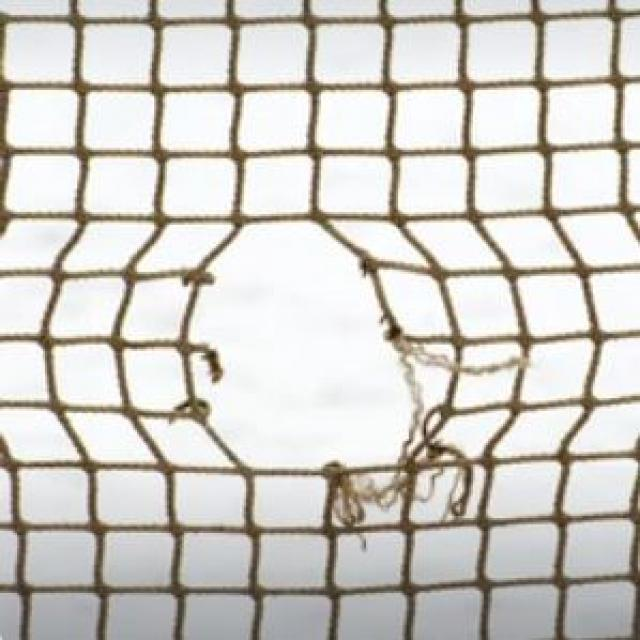fence line: (149, 180, 508, 551)
